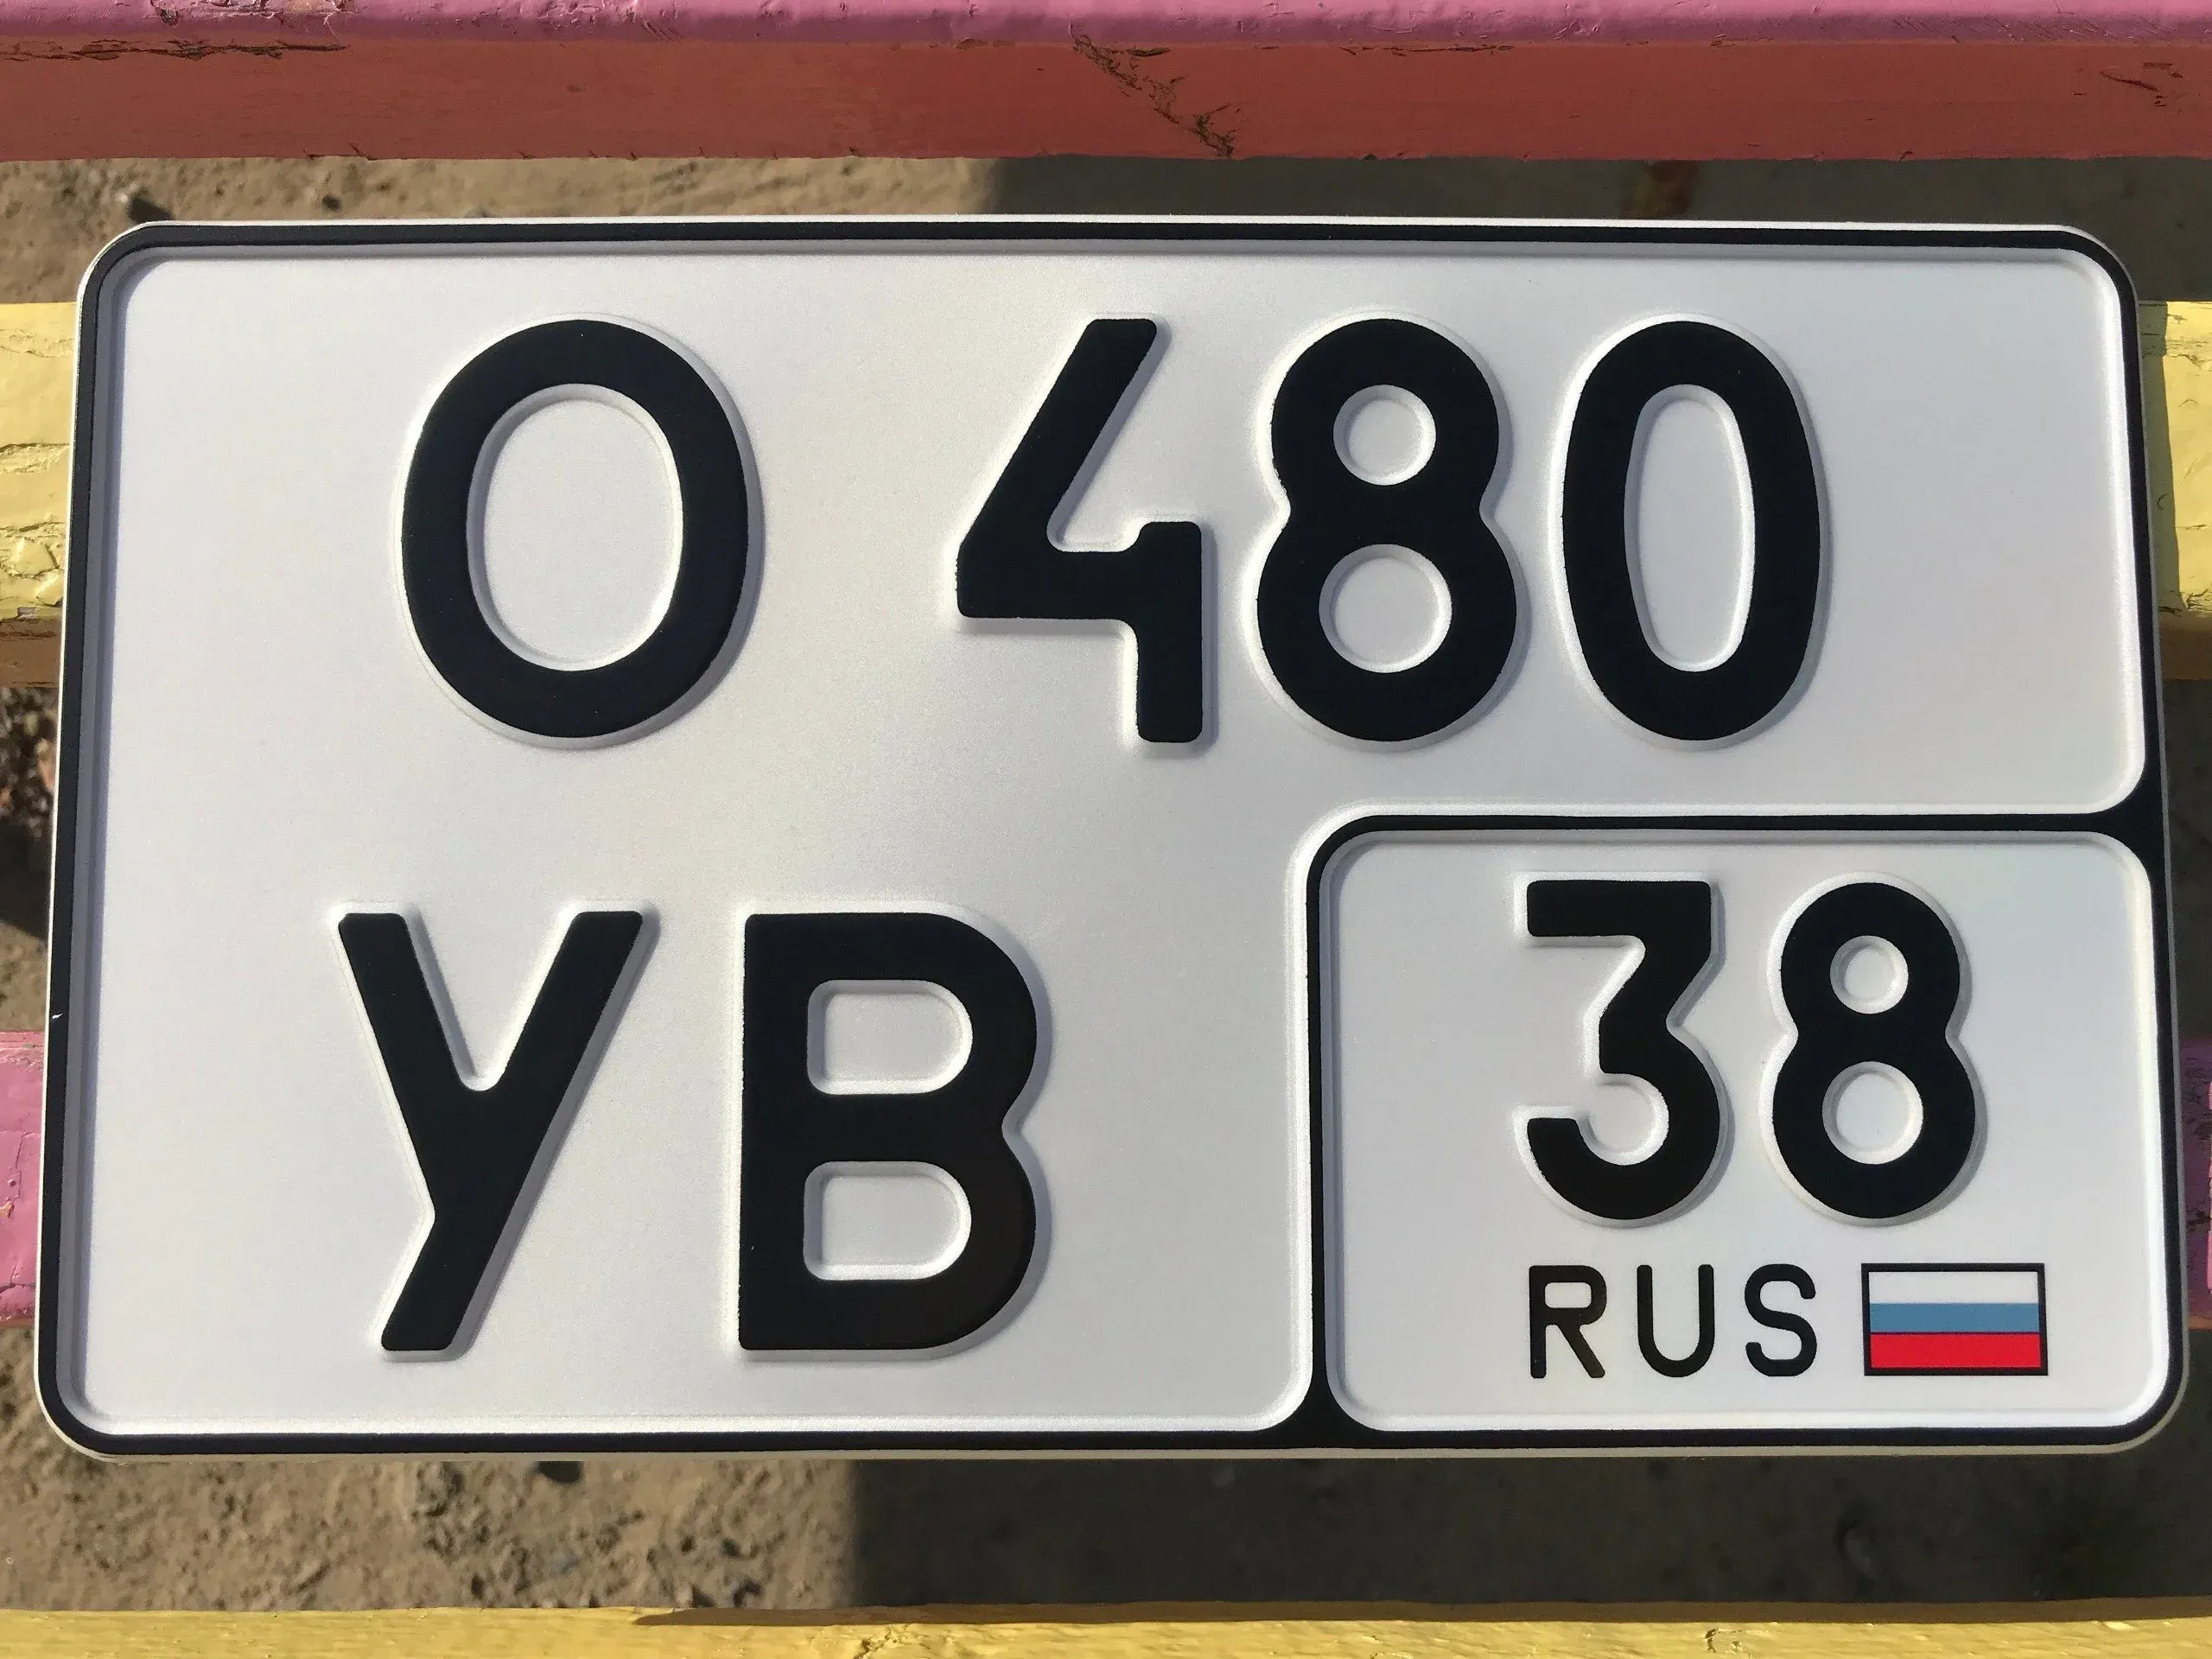number_plate: (55, 265, 2109, 1483)
